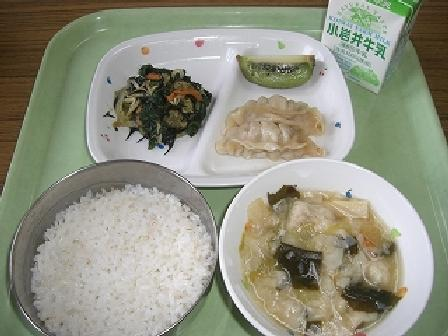Milk: (320, 1, 423, 82)
Rice: (13, 163, 213, 335)
Salad: (97, 60, 211, 151)
Soups: (223, 173, 432, 335)
kiwi: (231, 45, 321, 94)
tushpara-wo-soup: (223, 93, 335, 170)
